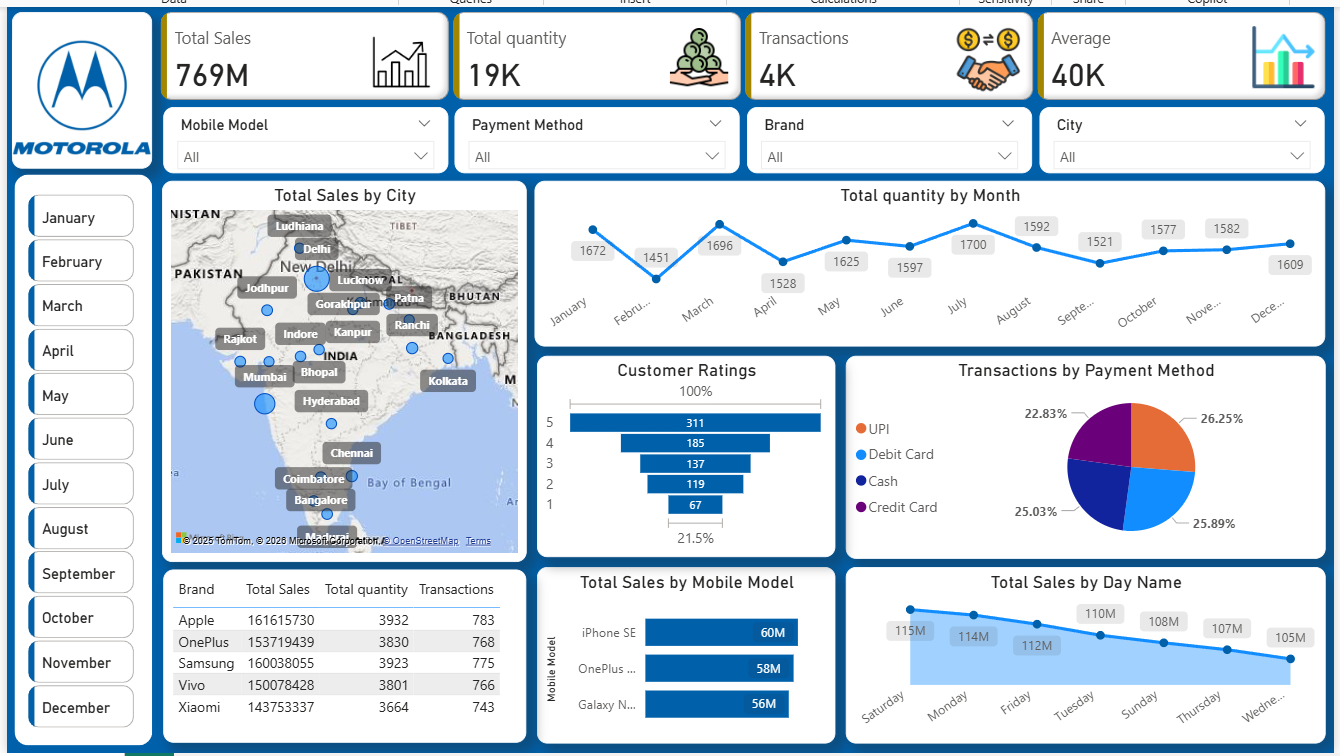

This screenshot's page, from the dashboard's own definition file:
{"tool":"powerbi","page":{"name":"Sales_Dashboard","canvas":[1280,720],"ordinal":0},"visuals":[{"type":"shape","box":[5,5,135,151],"z":0},{"type":"image","box":[0,16,144,144],"z":1000},{"type":"shape","box":[7,162,133,551],"z":2000},{"type":"advancedSlicerVisual","fields":{"Values":["Mobile_Sales_Data.Date.Variation.Date Hierarchy.Month"]},"box":[16,176,112,528],"z":3000},{"type":"cardVisual","fields":{"Data":["Mobile_Sales_Data.Total Sales","Mobile_Sales_Data.Total quantity","Mobile_Sales_Data.Transactions","Mobile_Sales_Data.Average"]},"box":[144,0,1136,96],"z":4000},{"type":"map","fields":{"Category":["Mobile_Sales_Data.City"],"Size":["Mobile_Sales_Data.Total Sales"]},"box":[150,168,352,368],"z":5000},{"type":"lineChart","fields":{"Category":["Mobile_Sales_Data.Date.Variation.Date Hierarchy.Month","Mobile_Sales_Data.Date.Variation.Date Hierarchy.Day"],"Y":["Mobile_Sales_Data.Total quantity"]},"box":[509,168,763,160],"z":6000},{"type":"clusteredBarChart","fields":{"Category":["Mobile_Sales_Data.Mobile Model"],"Y":["Mobile_Sales_Data.Total Sales"]},"box":[512,540,288,170],"z":7000},{"type":"pieChart","fields":{"Category":["Mobile_Sales_Data.Payment Method"],"Y":["Mobile_Sales_Data.Transactions"]},"box":[809,336,463,196],"z":8000},{"type":"funnel","title":"Customer Ratings","fields":{"Category":["Mobile_Sales_Data.Customer Ratings"],"Y":["CountNonNull(Mobile_Sales_Data.Customer Ratings)"]},"box":[512,336,288,194],"z":9000},{"type":"areaChart","fields":{"Category":["Mobile_Sales_Data.Day Name"],"Y":["Mobile_Sales_Data.Total Sales"]},"box":[810,541,463,170],"z":10000},{"type":"tableEx","fields":{"Values":["Mobile_Sales_Data.Brand","Mobile_Sales_Data.Total Sales","Mobile_Sales_Data.Total quantity","Mobile_Sales_Data.Transactions"]},"box":[151,543,350,167],"z":11000},{"type":"slicer","fields":{"Values":["Mobile_Sales_Data.Mobile Model"]},"box":[151,96,275,64],"z":12000},{"type":"slicer","fields":{"Values":["Mobile_Sales_Data.Payment Method"]},"box":[432,96,275,64],"z":13000},{"type":"slicer","fields":{"Values":["Mobile_Sales_Data.Brand"]},"box":[714,96,275,64],"z":14000},{"type":"slicer","fields":{"Values":["Mobile_Sales_Data.City"]},"box":[997,96,275,64],"z":15000}]}

Visuals, with their boxes in screenshot pixels (x1, y1, x2, y2):
shape: left=12, top=9, right=152, bottom=165
image: left=7, top=20, right=156, bottom=169
shape: left=14, top=171, right=152, bottom=740
advancedSlicerVisual - Mobile_Sales_Data.Date.Variation.Date Hierarchy.Month: left=23, top=185, right=139, bottom=730
cardVisual - Mobile_Sales_Data.Total Sales x Mobile_Sales_Data.Total quantity: left=156, top=3, right=1328, bottom=103
map - Mobile_Sales_Data.City x Mobile_Sales_Data.Total Sales: left=162, top=177, right=525, bottom=557
lineChart - Mobile_Sales_Data.Date.Variation.Date Hierarchy.Month x Mobile_Sales_Data.Date.Variation.Date Hierarchy.Day: left=532, top=177, right=1320, bottom=342
clusteredBarChart - Mobile_Sales_Data.Mobile Model x Mobile_Sales_Data.Total Sales: left=536, top=561, right=833, bottom=736
pieChart - Mobile_Sales_Data.Payment Method x Mobile_Sales_Data.Transactions: left=842, top=350, right=1320, bottom=553
"Customer Ratings" funnel: left=536, top=350, right=833, bottom=551
areaChart - Mobile_Sales_Data.Day Name x Mobile_Sales_Data.Total Sales: left=843, top=562, right=1321, bottom=738
tableEx - Mobile_Sales_Data.Brand x Mobile_Sales_Data.Total Sales: left=163, top=564, right=524, bottom=736
slicer - Mobile_Sales_Data.Mobile Model: left=163, top=103, right=447, bottom=169
slicer - Mobile_Sales_Data.Payment Method: left=453, top=103, right=737, bottom=169
slicer - Mobile_Sales_Data.Brand: left=744, top=103, right=1028, bottom=169
slicer - Mobile_Sales_Data.City: left=1036, top=103, right=1320, bottom=169
